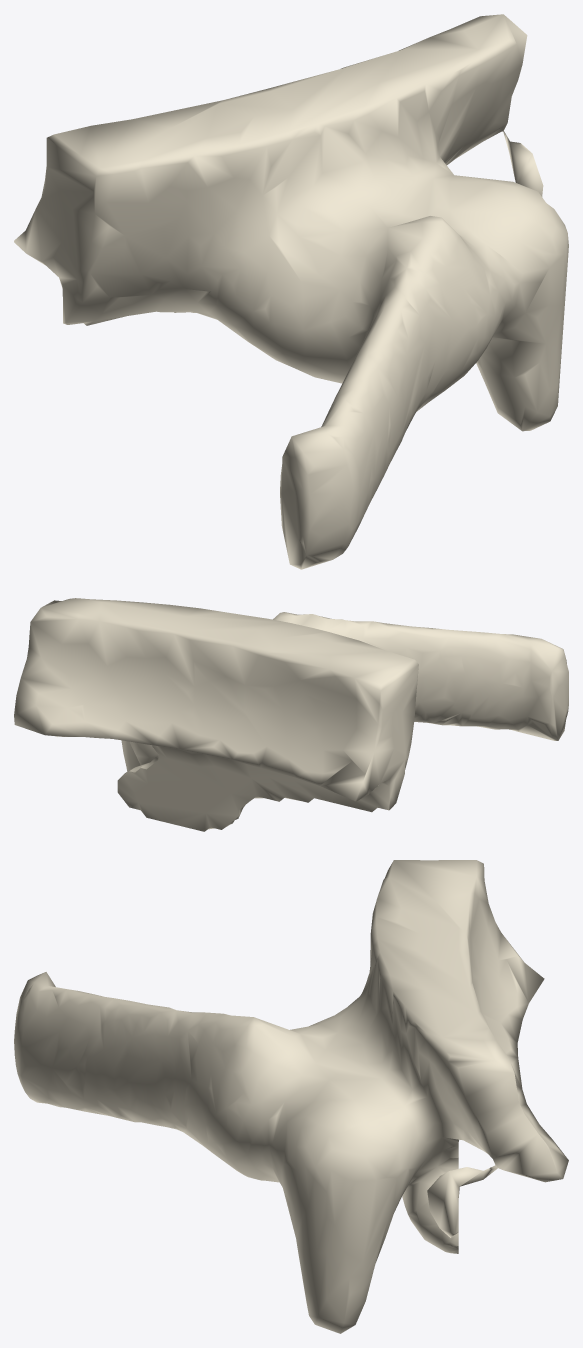
File: temporal_l.glb
3 renders of one model, top to bottom at view 1: azimuth 30°, elevation 25°; view 2: azimuth 150°, elevation 25°; view 3: azimuth 270°, elevation 25°, orthographic. The views are drawn at different scales.
Visible parts, largest first — view 1: geometry_0; view 2: geometry_0; view 3: geometry_0.
Boxes of the visible parts, box(x1,y1,x2,y2) form: geometry_0: box(14, 14, 568, 569); geometry_0: box(14, 598, 568, 831); geometry_0: box(14, 860, 568, 1333).
Size of the model in its own units: 0.2357 by 0.1593 by 0.269.
